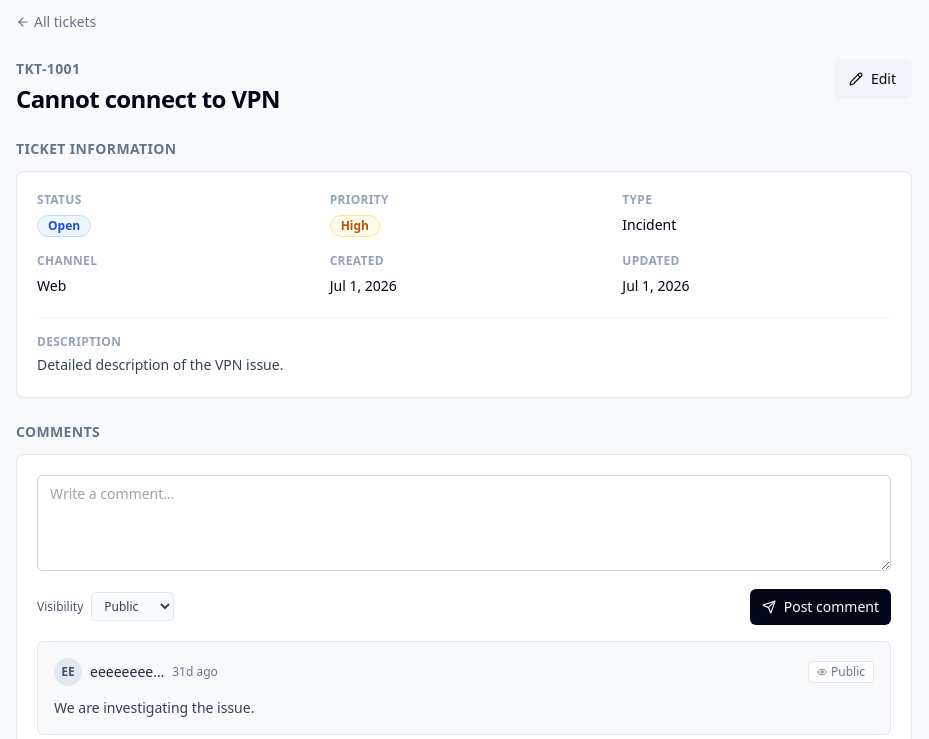
it: TicketDetailPage › shows conflict banner when PATCH returns 409
Note: Wait for ticket to load, then trigger edit
Click the button with aria-label "edit ticket" at (872, 79), box [833,59,912,99]
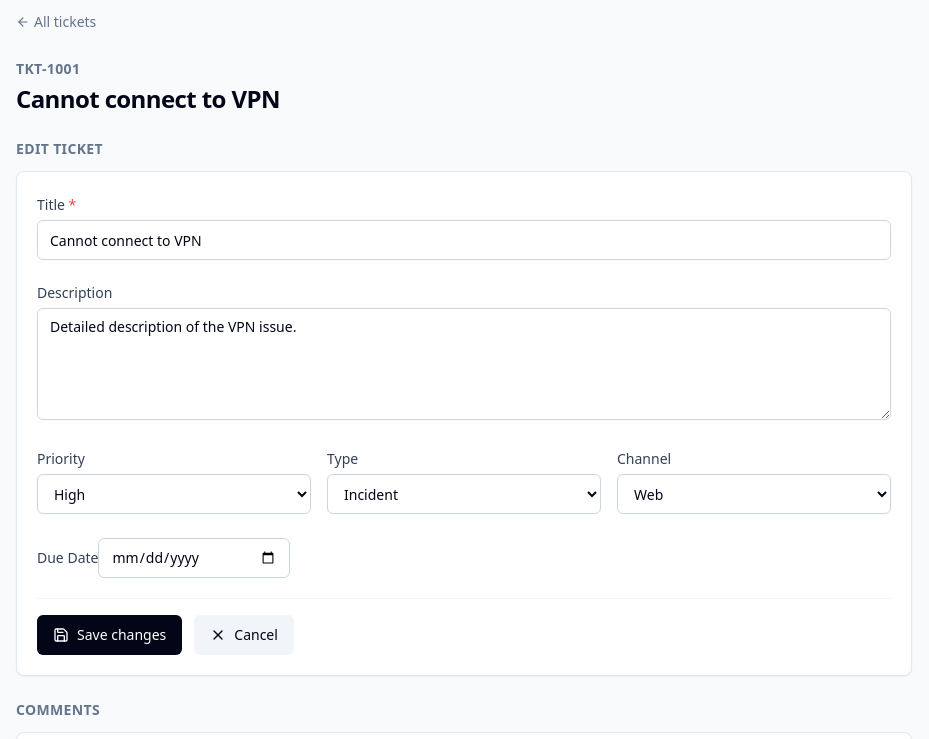
Click the button "Save changes" at (110, 635), box [37,615,182,655]
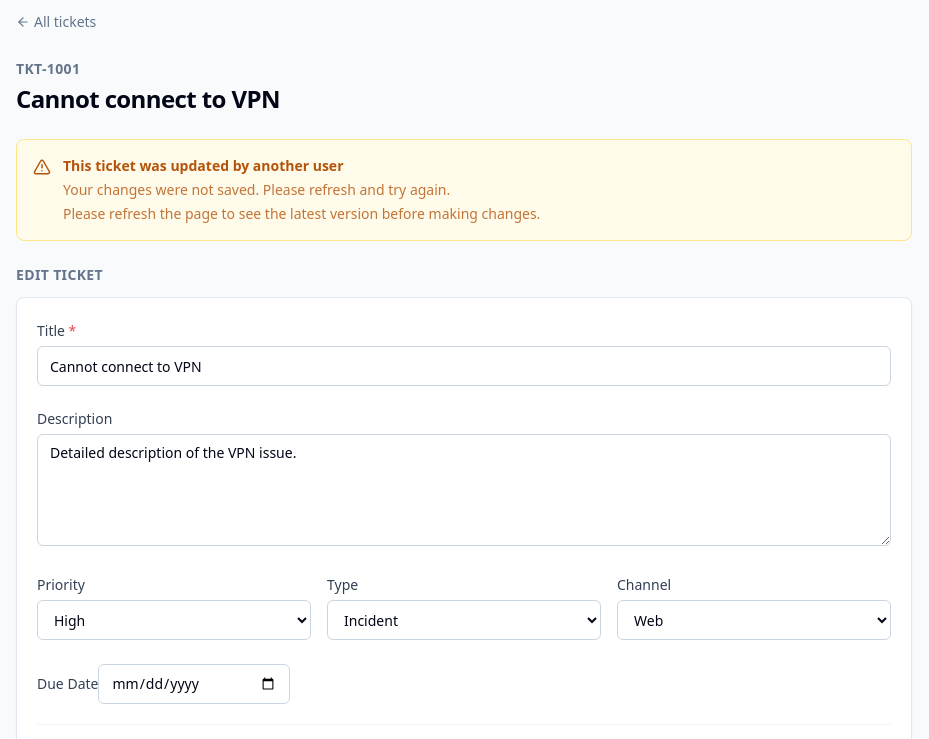
Now the text "This ticket was updated by another user" is shown, box [63,156,344,175]
